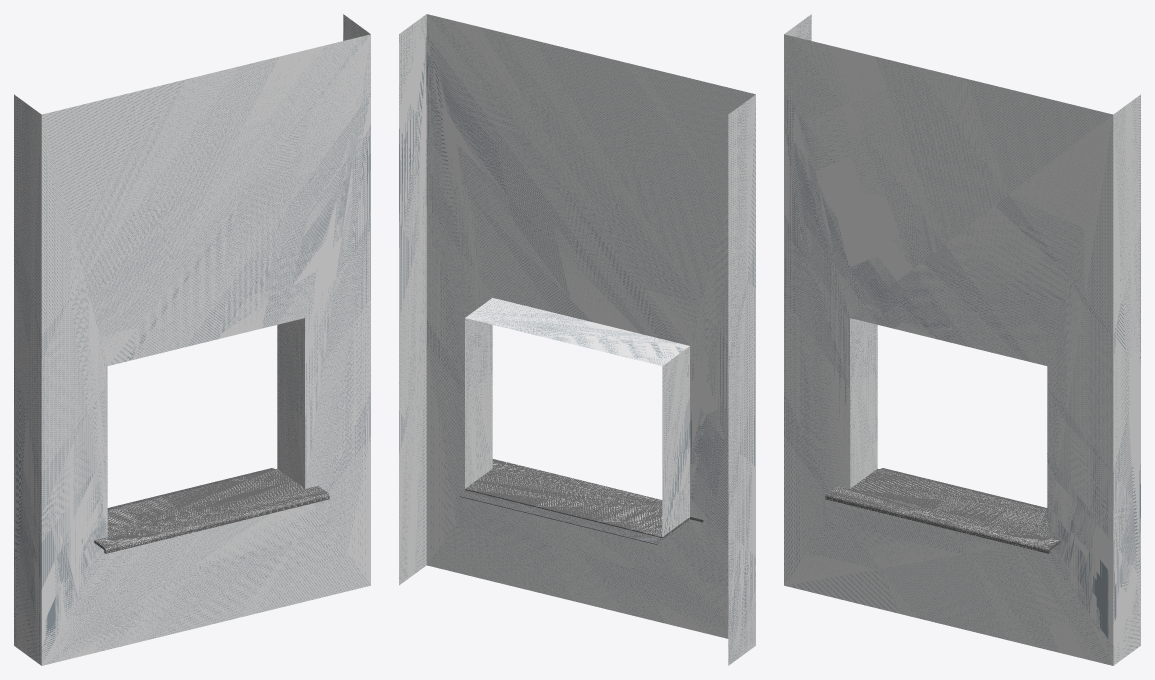
The model's file is WindowBlock_os_[250x400]_150x124x[080].dae.
3 views of the same model, side by side, from view 1: azimuth 30°, elevation 25°; view 2: azimuth 150°, elevation 25°; view 3: azimuth 330°, elevation 25° (orthographic).
Visible parts, largest first — view 1: group_2 (×2), group_1; view 2: group_2 (×2), group_1 (×2); view 3: group_2 (×2), group_1.
Part boxes in pixels (x1,y1,x2,y2): group_2 (×2): (14,14,370,665); group_1: (94,468,329,553); group_2 (×2): (399,14,755,665); group_1 (×2): (459,459,703,544); group_2 (×2): (784,14,1140,665); group_1: (825,468,1059,553).
Bounding box in the file's own units: 98.43 × 23.03 × 157.
